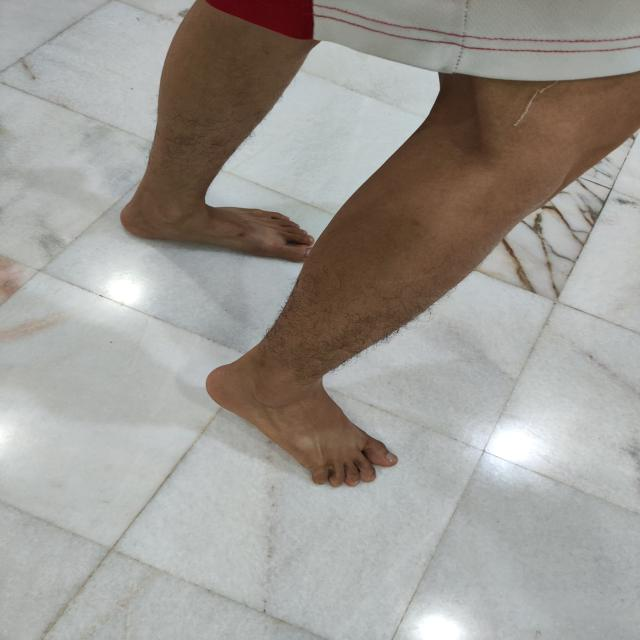No_Shoes: (203, 323, 454, 510), (85, 155, 344, 260)
